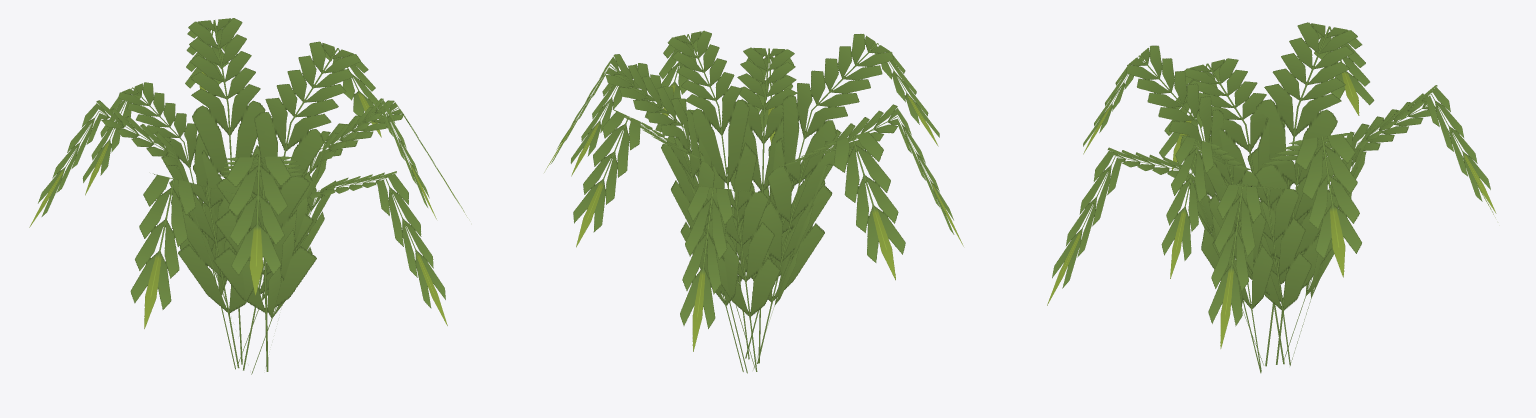
File: Furn_Fern_B.fbx
The picture shows the model from 3 angles, left to right: view 1: azimuth 30°, elevation 25°; view 2: azimuth 150°, elevation 25°; view 3: azimuth 270°, elevation 25°; orthographic projection. The views are drawn at different scales.
Visible parts, largest first — view 1: Furn_Fern_B; view 2: Furn_Fern_B; view 3: Furn_Fern_B.
Boxes of the visible parts, bbox=[...] form: Furn_Fern_B: bbox=[29, 18, 467, 374]; Furn_Fern_B: bbox=[544, 30, 963, 373]; Furn_Fern_B: bbox=[1047, 22, 1496, 373].
Bounding box in the file's own units: 0.7 × 0.45 × 0.7.
1 material, 1 textured.
